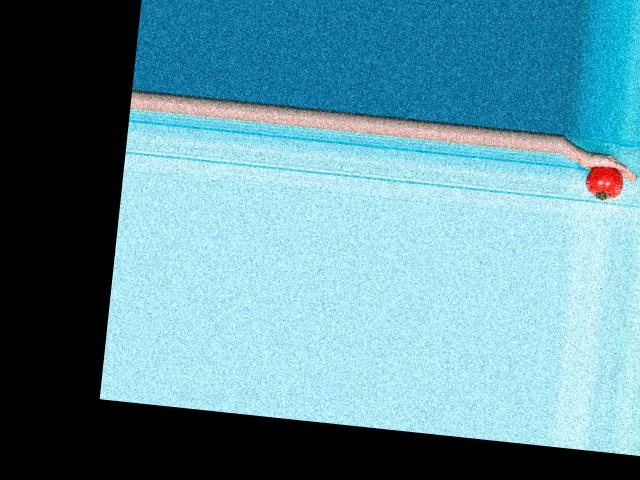tomato: (585, 164, 625, 201)
